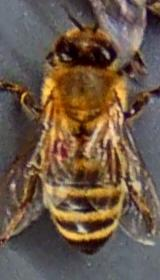varroa_mite: (31, 126, 76, 165)
